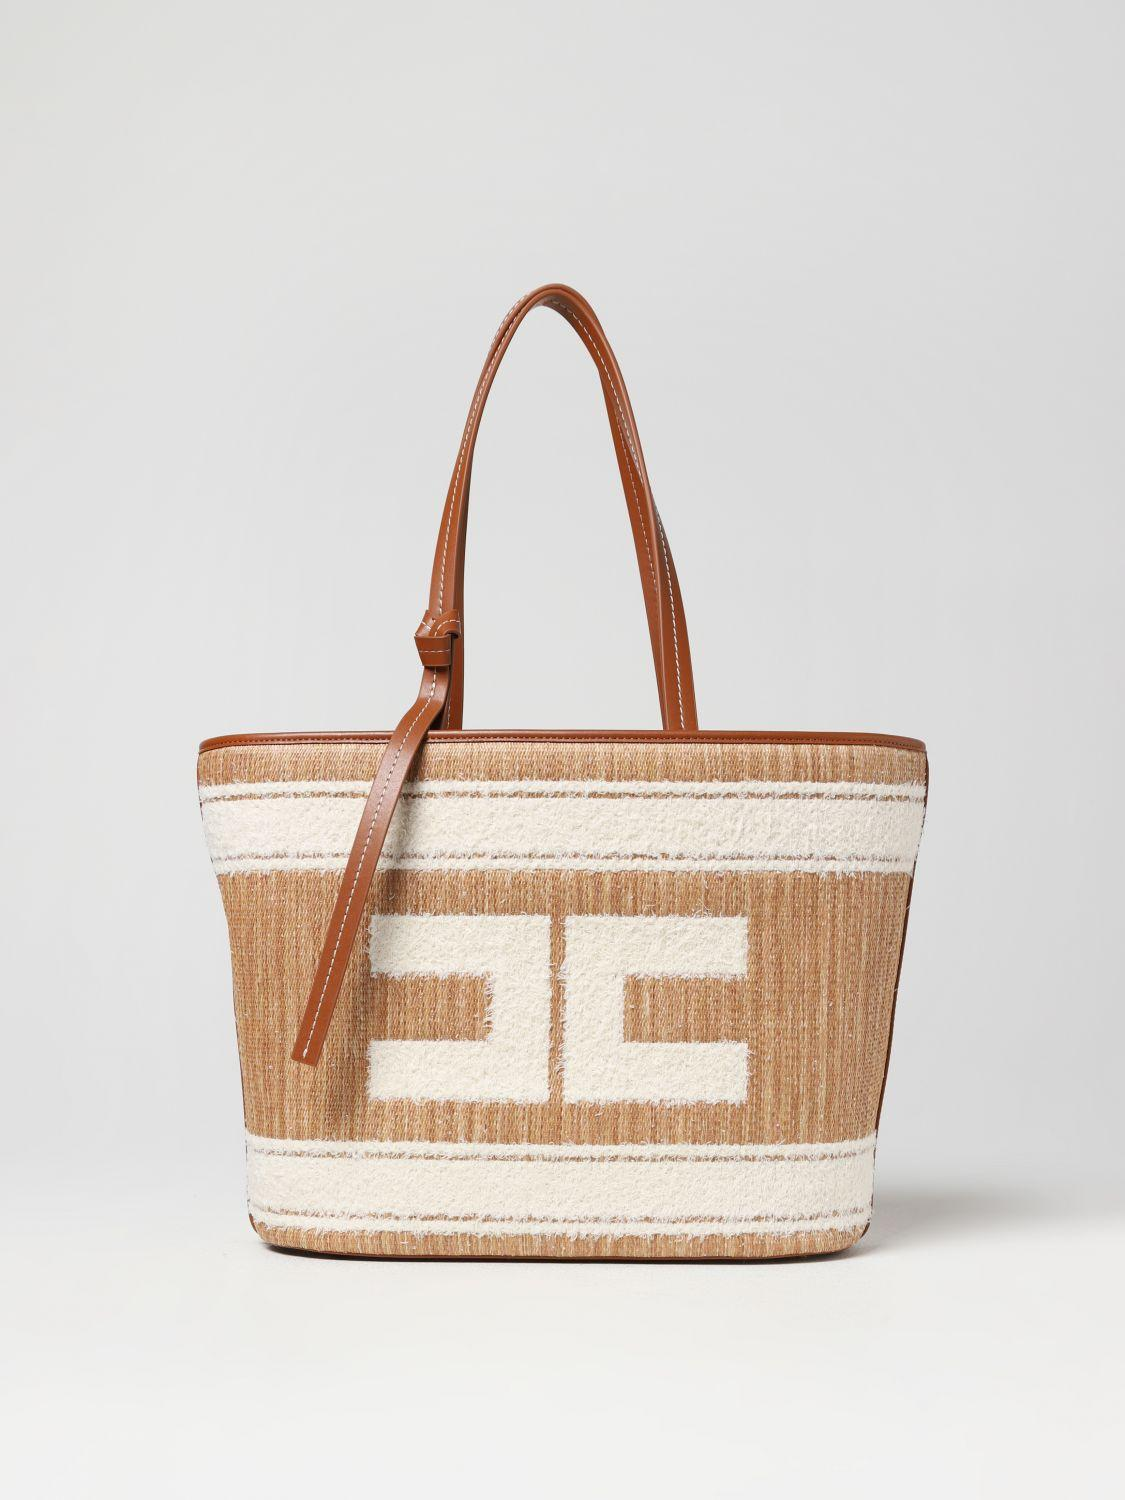ELISABETTA-FRANCHI: (332, 896, 761, 1123)
